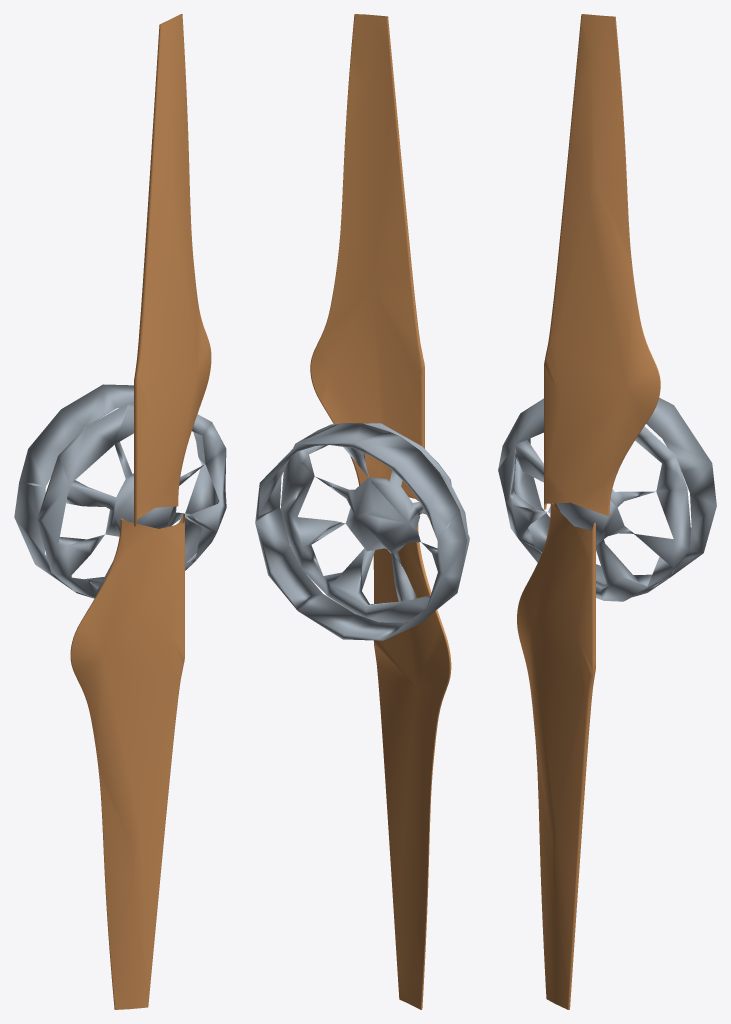
The model's file is px4-x500-rotor-0.glb.
3 renders of one model, left to right at view 1: azimuth 30°, elevation 25°; view 2: azimuth 150°, elevation 25°; view 3: azimuth 330°, elevation 25°, orthographic.
Visible parts, largest first — view 1: rotor_0_visual-0, rotor_0_visual_motor_bell-1, rotor_0_visual_motor_bell-0; view 2: rotor_0_visual-0, rotor_0_visual_motor_bell-0, rotor_0_visual_motor_bell-1; view 3: rotor_0_visual-0, rotor_0_visual_motor_bell-1, rotor_0_visual_motor_bell-0.
Boxes of the visible parts, x1,y1,x2,y2 form: rotor_0_visual-0: [70, 14, 211, 1009]; rotor_0_visual_motor_bell-1: [37, 402, 226, 597]; rotor_0_visual_motor_bell-0: [14, 384, 218, 598]; rotor_0_visual-0: [310, 14, 451, 1009]; rotor_0_visual_motor_bell-0: [255, 423, 466, 640]; rotor_0_visual_motor_bell-1: [280, 423, 469, 622]; rotor_0_visual-0: [517, 14, 660, 1009]; rotor_0_visual_motor_bell-1: [498, 398, 690, 601]; rotor_0_visual_motor_bell-0: [514, 397, 716, 596].
Size of the model in its own units: 0.0593 by 0.2928 by 0.0285.
